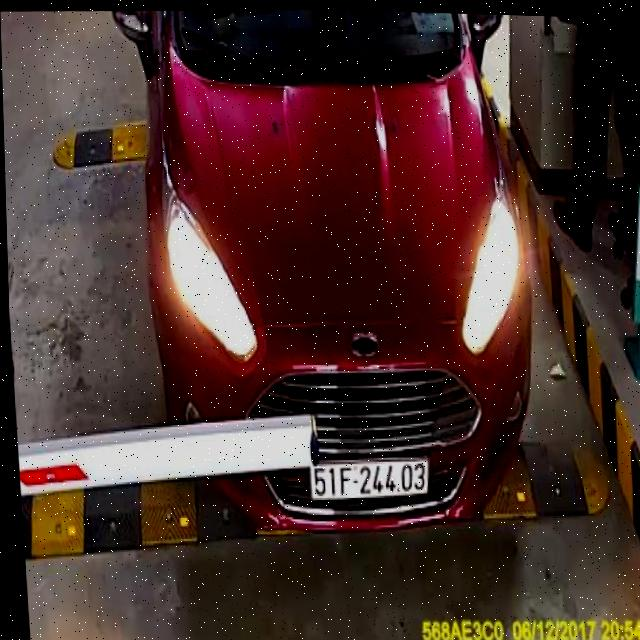car: (105, 3, 551, 555)
plate: (302, 455, 433, 500)
